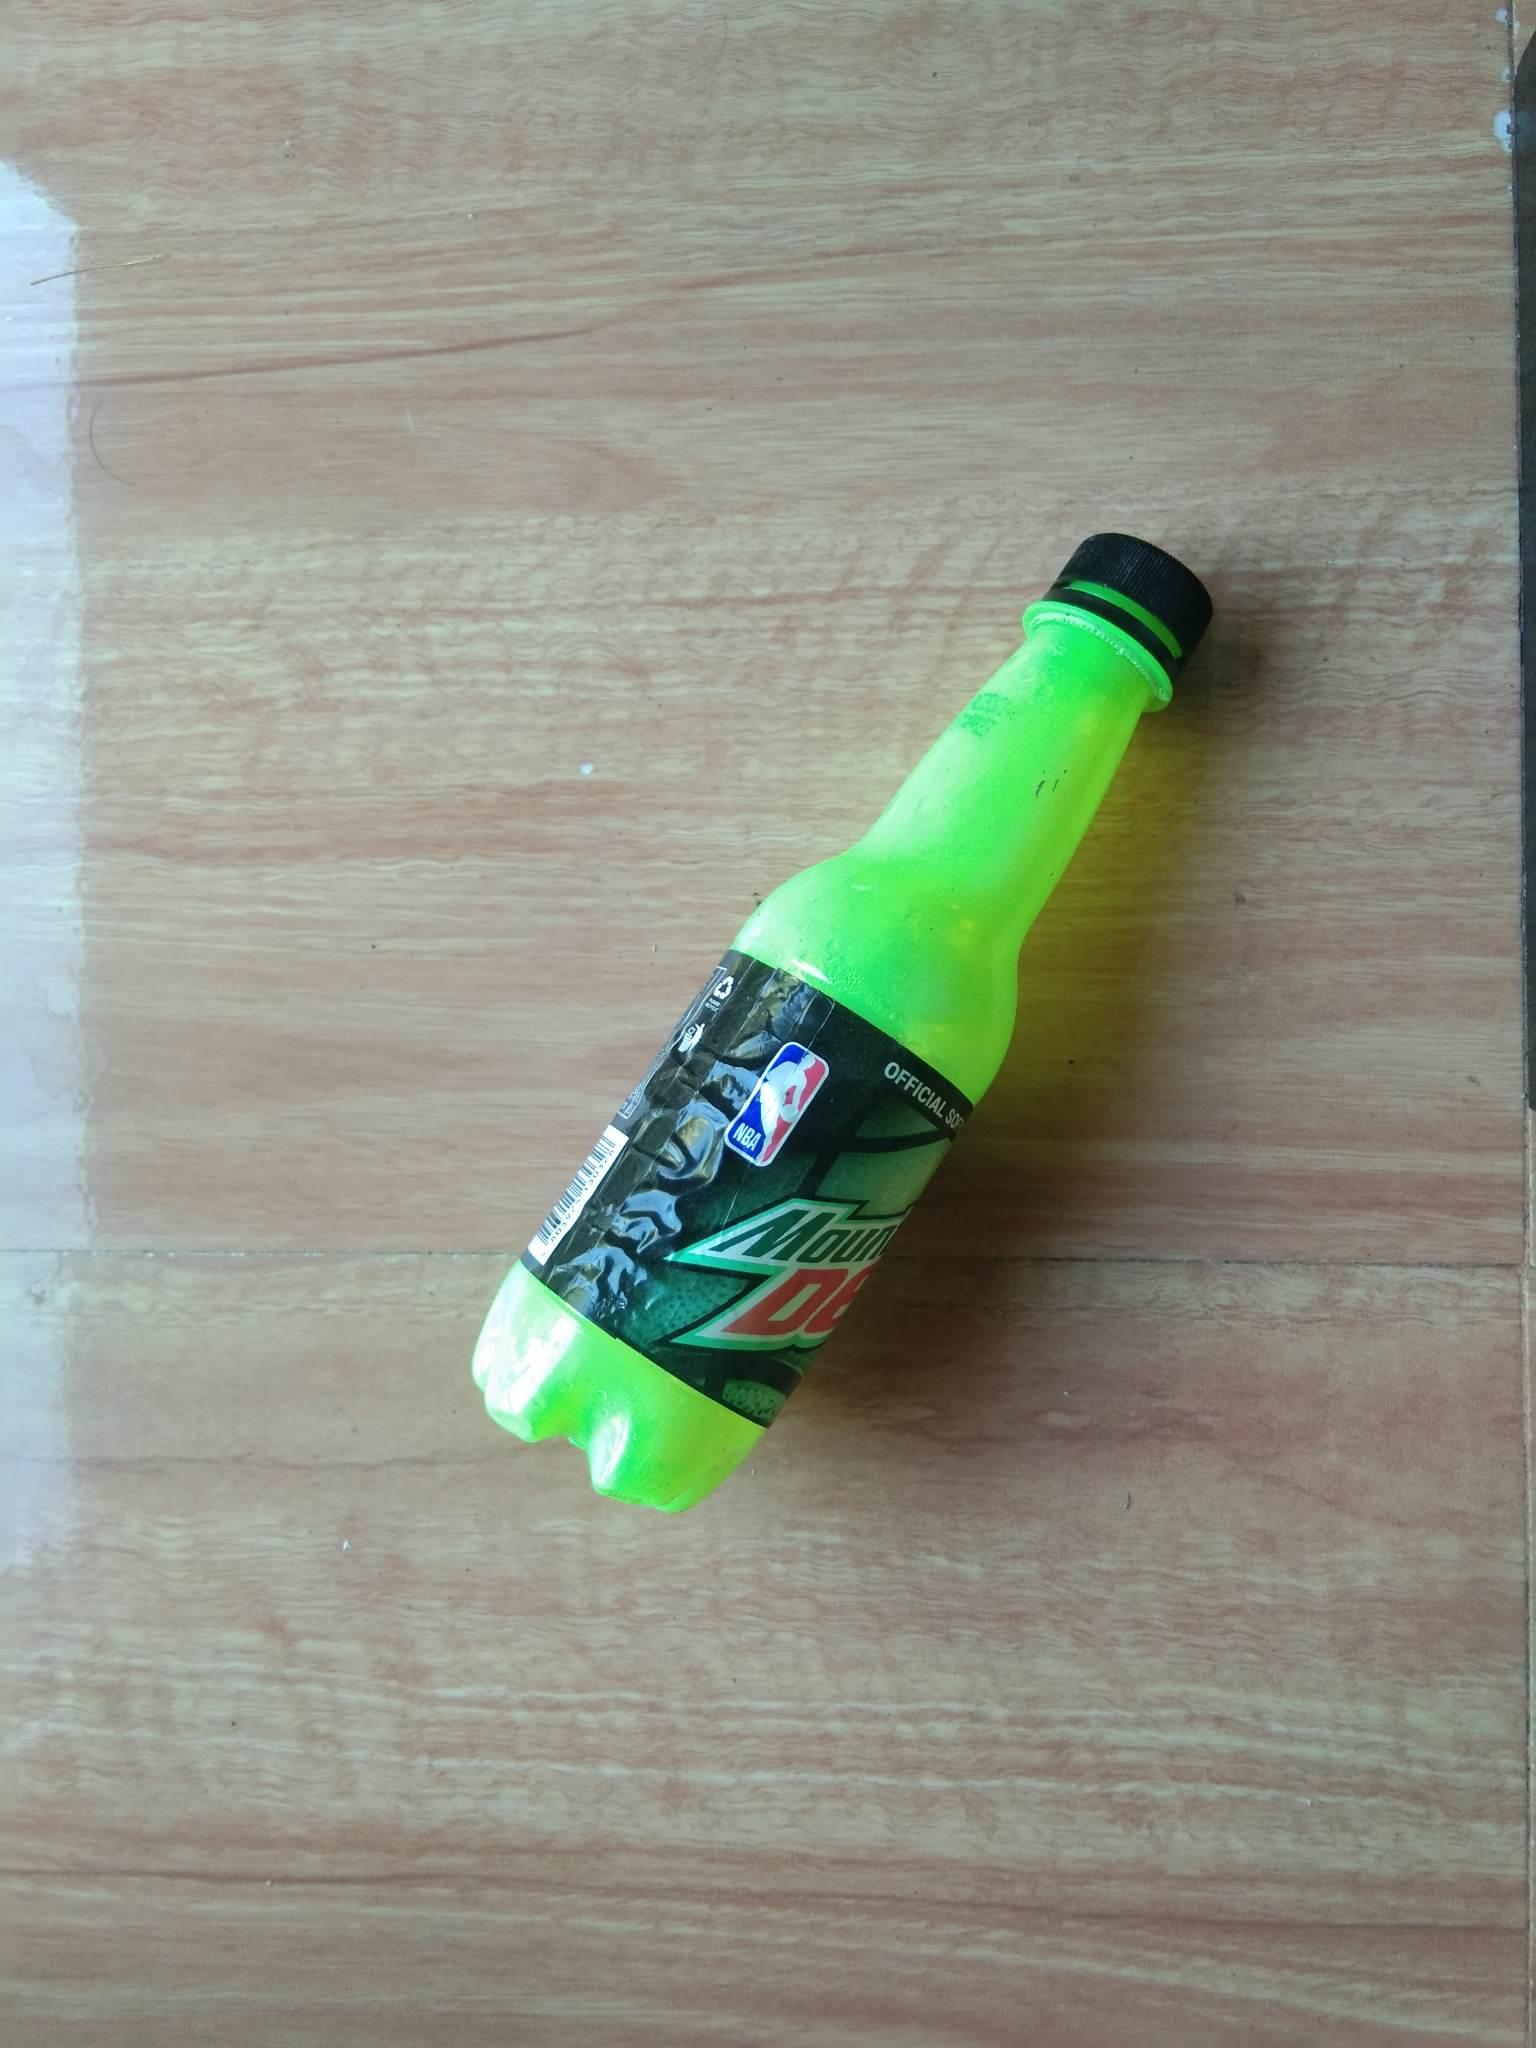plastic: (413, 481, 1286, 1603)
